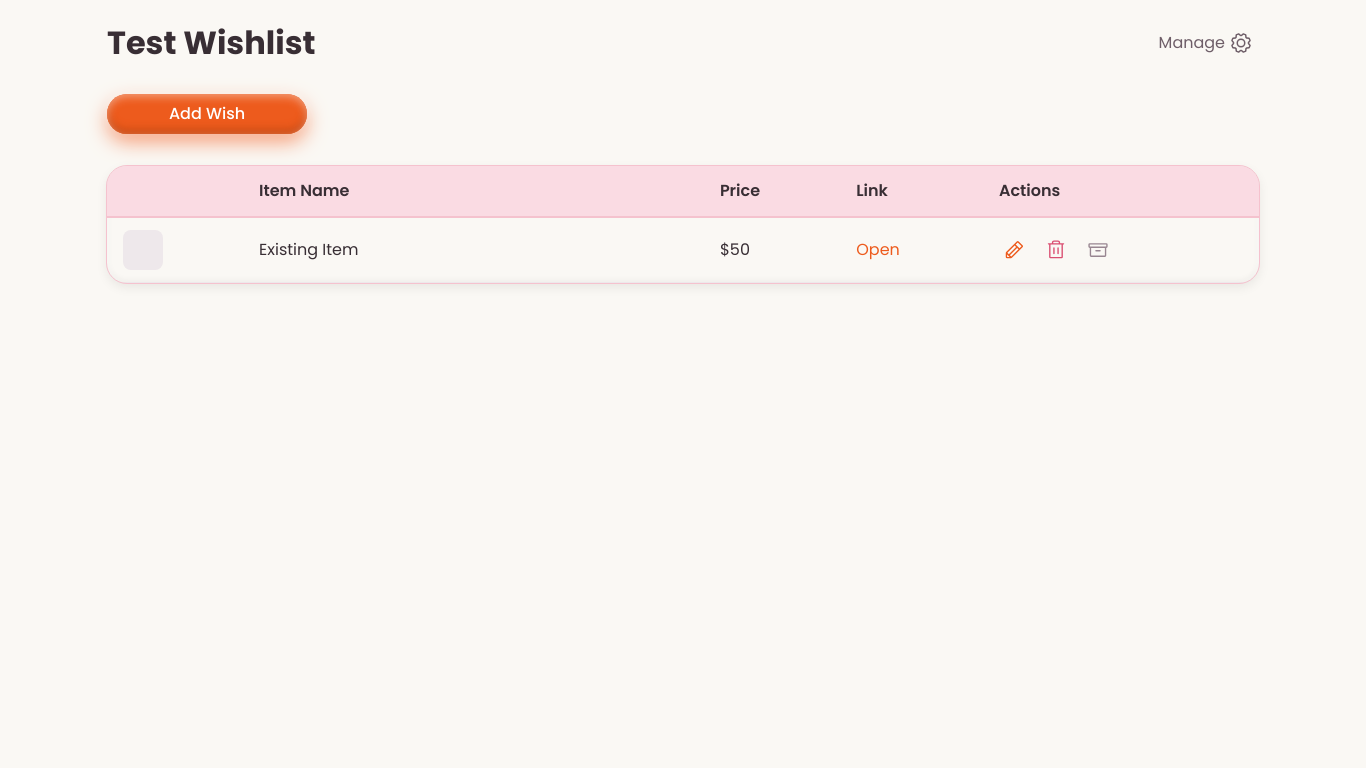
WishlistPage › opens edit item modal when edit button is clicked
The width and height of the screenshot is (1366, 768).
Check: the heading "Test Wishlist" is shown, box [107,24,316,62]
Click the button with test id "items-table-edit-button".
click(1014, 250)  # box [999,235,1029,265]
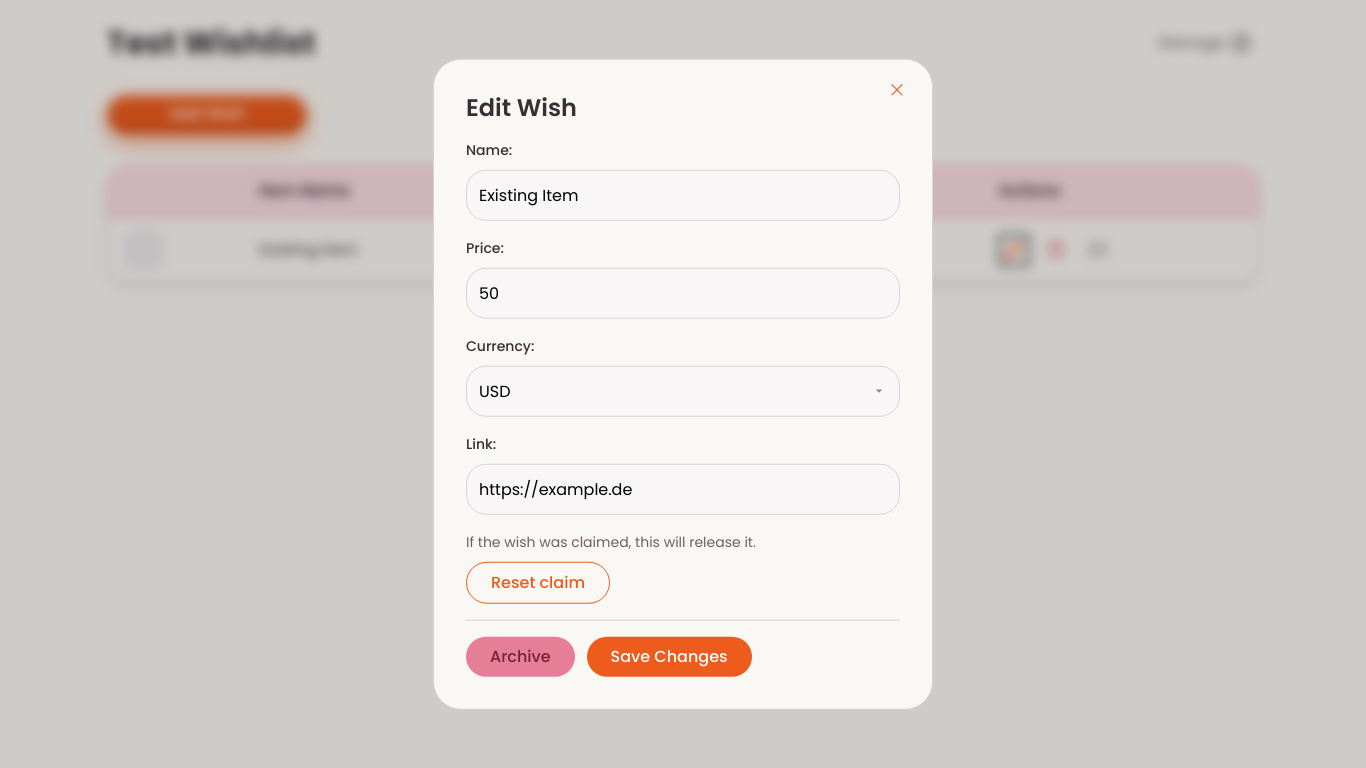
Check: the field with test id "add-item-modal-name-input" holds "Existing Item", box [466,169,900,221]
